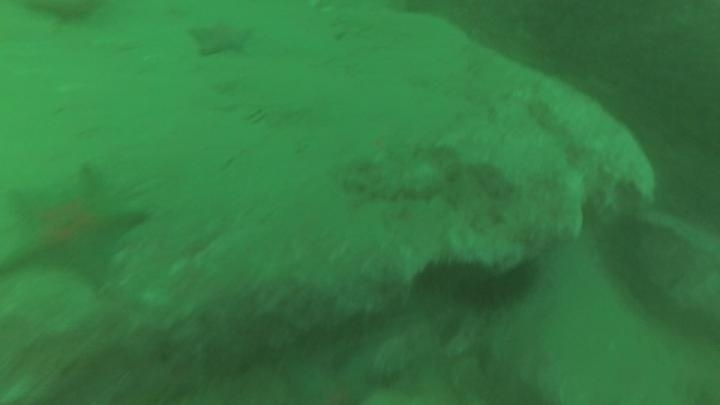starfish: (0, 161, 151, 290), (281, 349, 380, 405), (186, 17, 256, 60)
